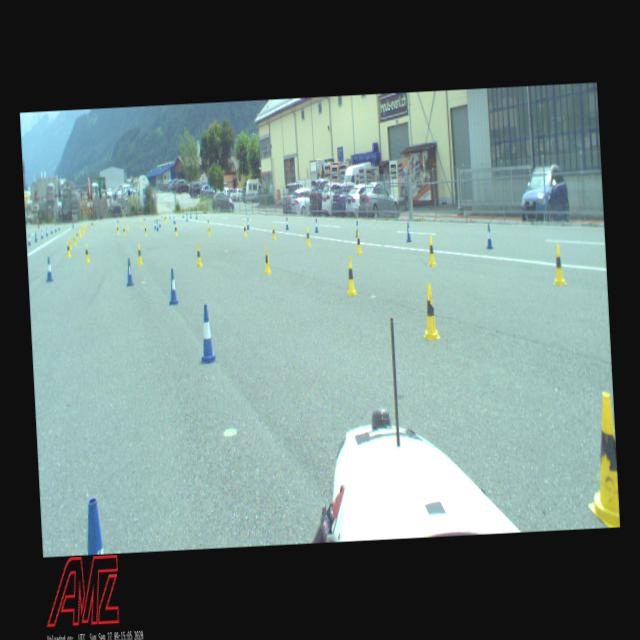blue_cone: (198, 303, 217, 364), (85, 496, 104, 554), (168, 268, 178, 304), (125, 258, 134, 286), (46, 256, 54, 282), (486, 223, 494, 249), (405, 222, 412, 242), (355, 220, 360, 238), (314, 218, 319, 233), (286, 218, 290, 230), (34, 232, 38, 243), (174, 221, 178, 232), (247, 218, 250, 230), (50, 225, 54, 234), (28, 234, 31, 245), (154, 220, 157, 230), (46, 227, 49, 236), (195, 212, 198, 220), (208, 220, 210, 231), (182, 212, 185, 219), (158, 218, 160, 228), (157, 223, 159, 232), (41, 230, 43, 239), (173, 216, 175, 225), (55, 224, 57, 232), (186, 214, 188, 222), (117, 216, 119, 223), (190, 212, 192, 219), (169, 212, 171, 219), (72, 222, 74, 228), (59, 222, 60, 231)
yellow_cone: (582, 391, 620, 529), (420, 282, 440, 341), (551, 243, 568, 286), (344, 256, 356, 296), (426, 236, 436, 266), (263, 247, 272, 274), (355, 231, 363, 255), (196, 244, 203, 267), (305, 227, 312, 247), (137, 243, 143, 265), (84, 242, 90, 262), (66, 240, 71, 256), (272, 224, 276, 240), (243, 222, 247, 237), (68, 236, 72, 250), (144, 225, 148, 236), (116, 224, 120, 235), (122, 226, 126, 236), (78, 228, 82, 238), (73, 232, 76, 245), (207, 224, 210, 236), (175, 224, 178, 235), (76, 230, 79, 241), (165, 213, 168, 222), (82, 226, 84, 235), (127, 221, 129, 230), (90, 220, 92, 228), (102, 218, 104, 226), (164, 214, 166, 222), (82, 225, 84, 233), (162, 214, 164, 221), (140, 220, 142, 227), (84, 224, 86, 231), (122, 217, 124, 223), (86, 222, 87, 230)
